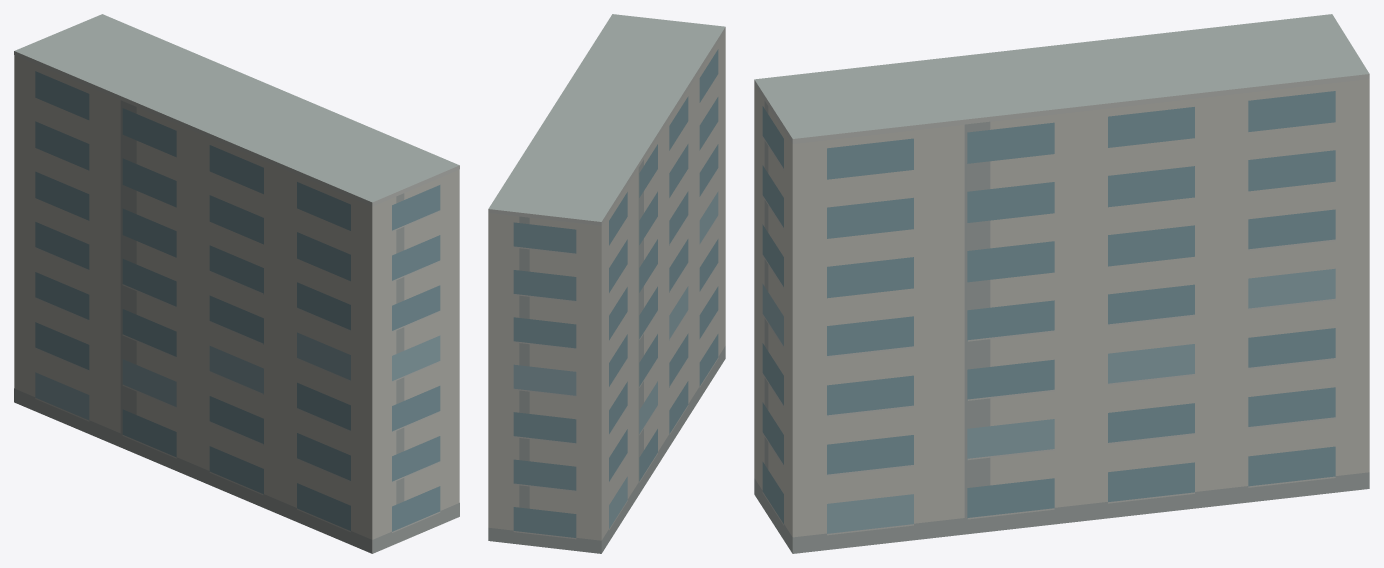
The model's file is survey-upis-32574247.glb.
3 renders of one model, left to right at view 1: azimuth 30°, elevation 25°; view 2: azimuth 150°, elevation 25°; view 3: azimuth 270°, elevation 25°, orthographic. The views are drawn at different scales.
Parts seen in each view (by area): view 1: survey-upis-32574247.tmp; view 2: survey-upis-32574247.tmp; view 3: survey-upis-32574247.tmp.
Part boxes in pixels (<box>): survey-upis-32574247.tmp: <box>14,14,459,553</box>; survey-upis-32574247.tmp: <box>488,14,725,553</box>; survey-upis-32574247.tmp: <box>754,14,1369,553</box>.
Bounding box in the file's own units: 13.32 × 20.6 × 27.71.
